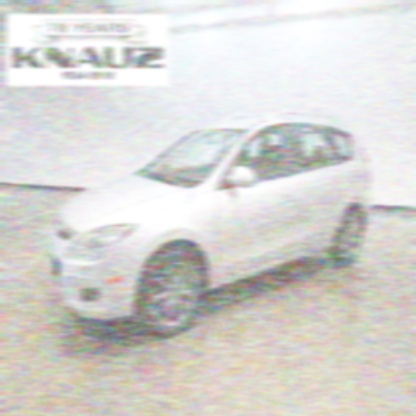Vehicle: (50, 110, 371, 335)
